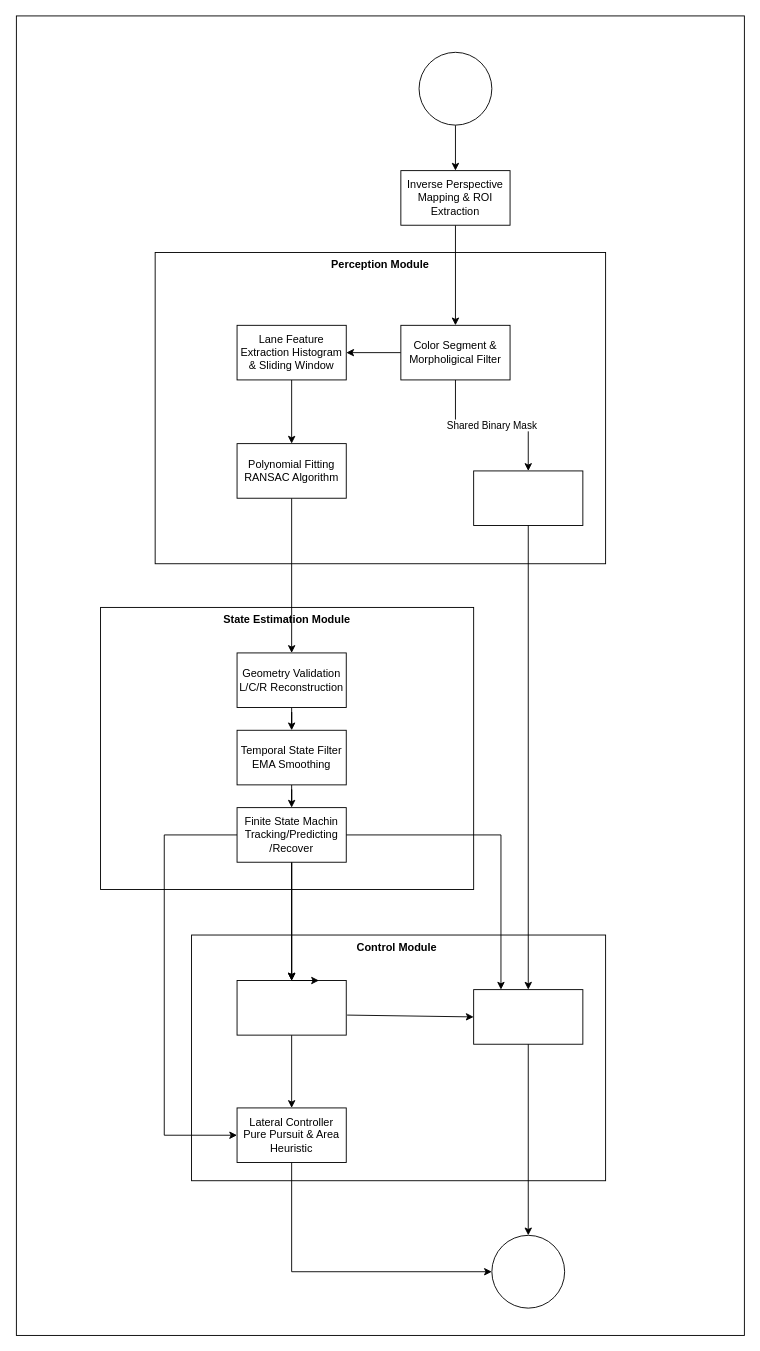
Image size: 760x1351. Some labels were removed from this diagram. Each missing label, with the centre of its shape:
Actuator Commands Steer & Throttle: (528,1271)
Camera Input: (455,88)
Horizon Scanner Predictive Vison: (528,498)
Longitudinal Controller Curvature-based Speed: (528,1016)
Trajectory Generation Look-ahead Target: (291,1007)
